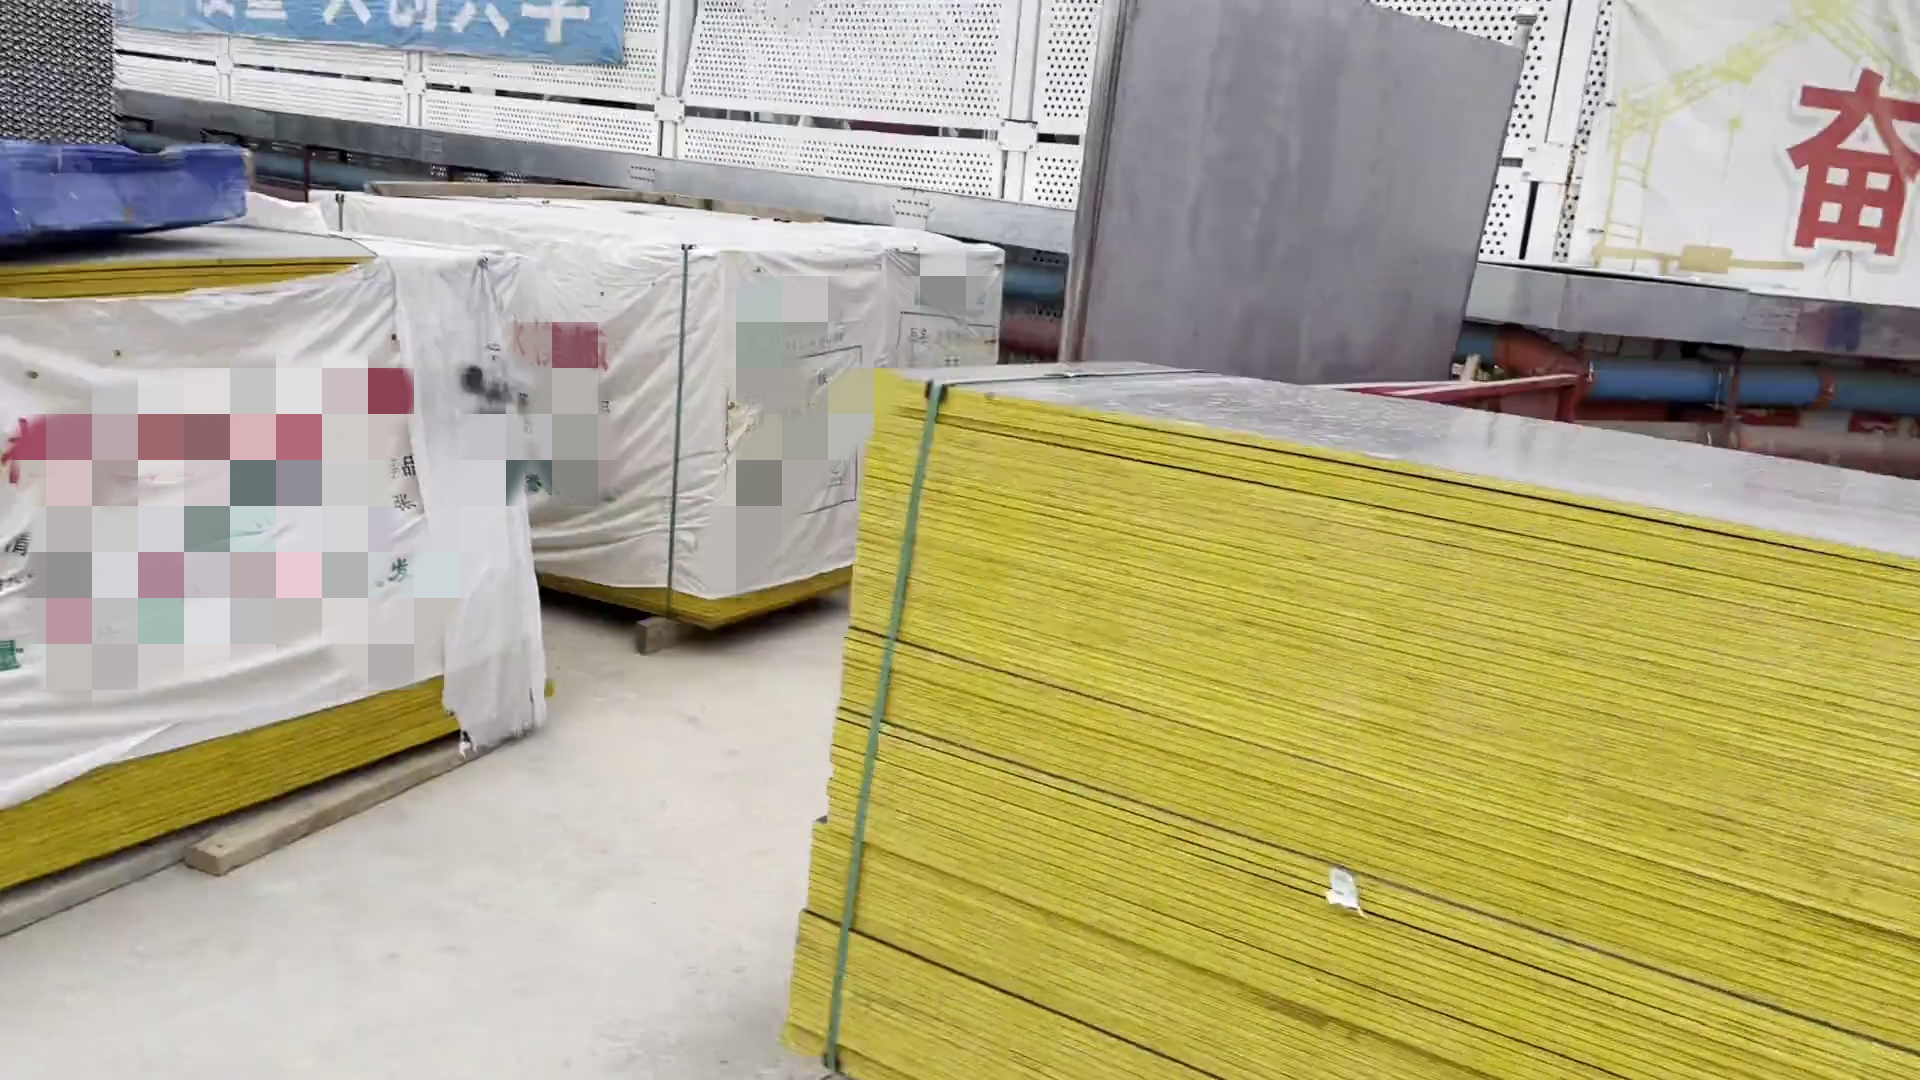board: (771, 348, 1920, 1079), (1, 231, 512, 882)
